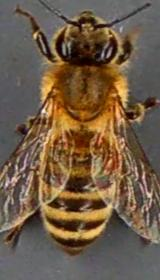varroa_mite: (90, 134, 124, 176)
